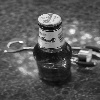beer: (30, 11, 77, 90)
